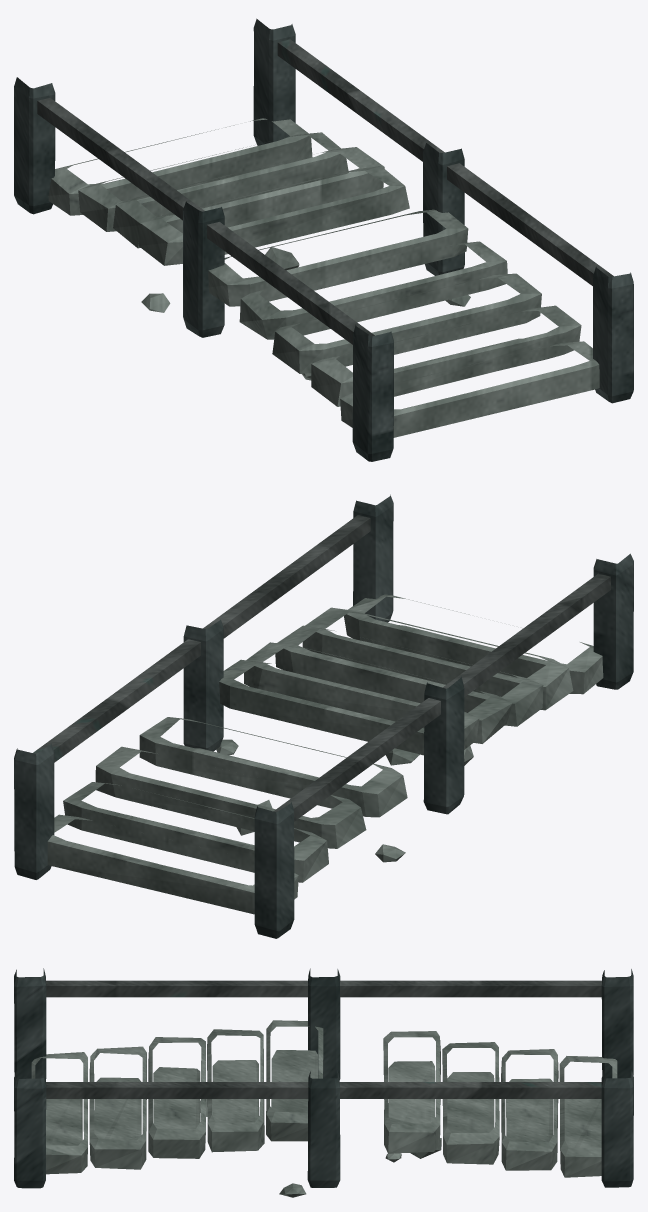
File: 0387_ruined_bridge_12.glb
3 views of the same model, one above another, from view 1: azimuth 30°, elevation 25°; view 2: azimuth 150°, elevation 25°; view 3: azimuth 270°, elevation 25° (orthographic). The views are drawn at different scales.
Parts seen in each view (by area): view 1: stone, stone_dark, iron; view 2: stone, stone_dark, iron; view 3: stone, stone_dark, iron.
Boxes of the visible parts, x1=… form: stone: x1=48, y1=118, x2=599, y2=437; stone_dark: x1=14, y1=18, x2=633, y2=461; iron: x1=37, y1=39, x2=613, y2=344; stone: x1=47, y1=594, x2=603, y2=914; stone_dark: x1=14, y1=494, x2=633, y2=938; iron: x1=33, y1=515, x2=610, y2=821; stone: x1=31, y1=1020, x2=617, y2=1197; stone_dark: x1=14, y1=968, x2=633, y2=1188; iron: x1=46, y1=980, x2=601, y2=1098.
Size of the model in its own units: 2.09 by 1.09 by 4.88.
Materials: 3 (3 with a texture image).
